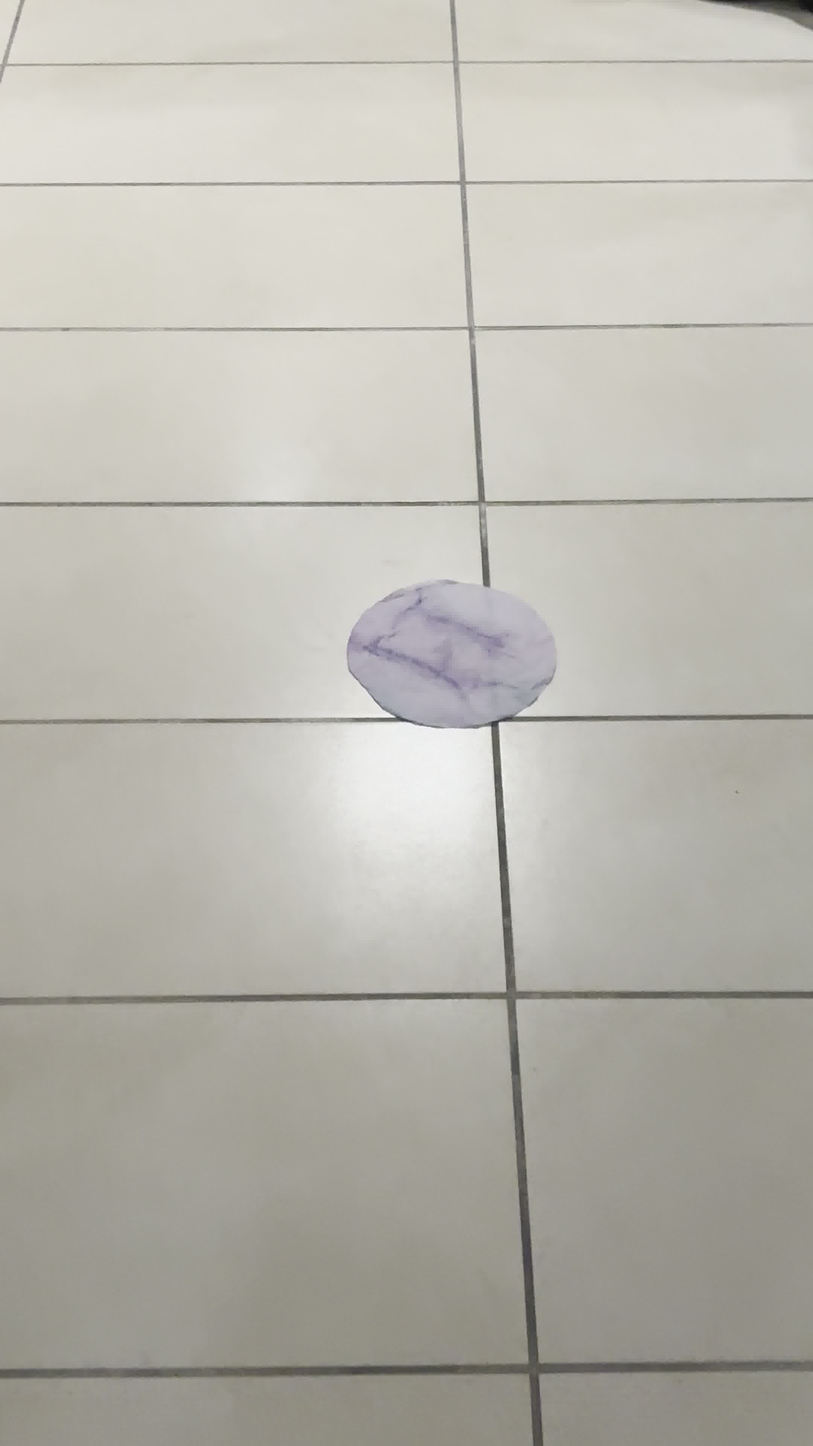Target: (344, 578, 556, 731)
